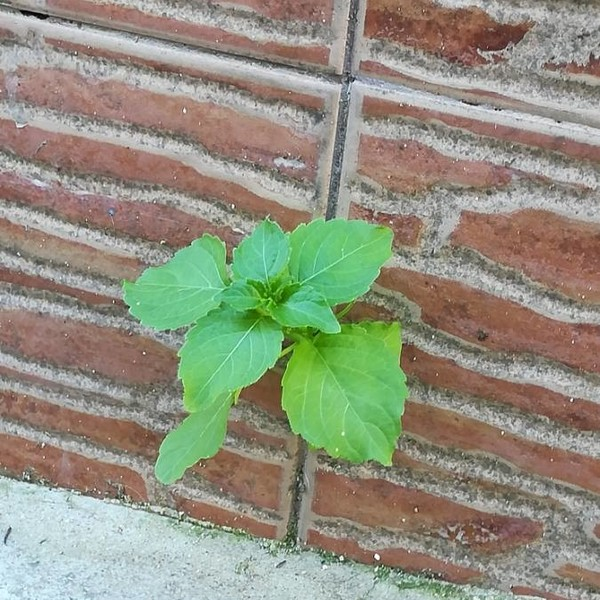obstacle: (108, 192, 412, 542)
